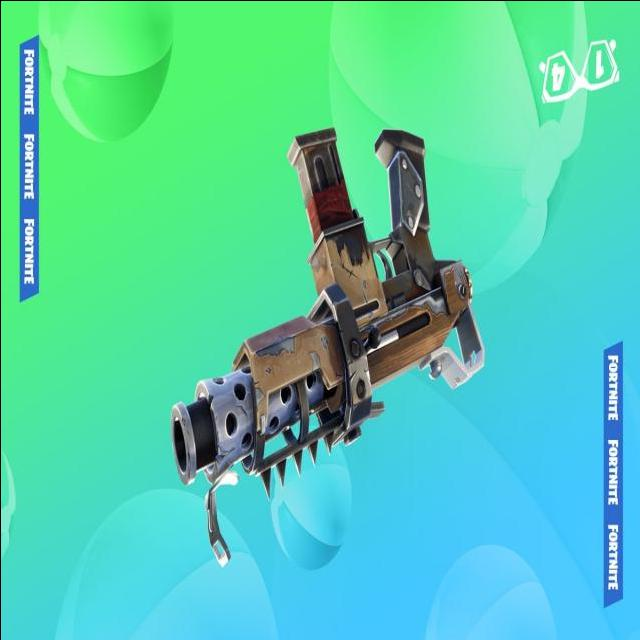smg: (159, 101, 491, 485)
